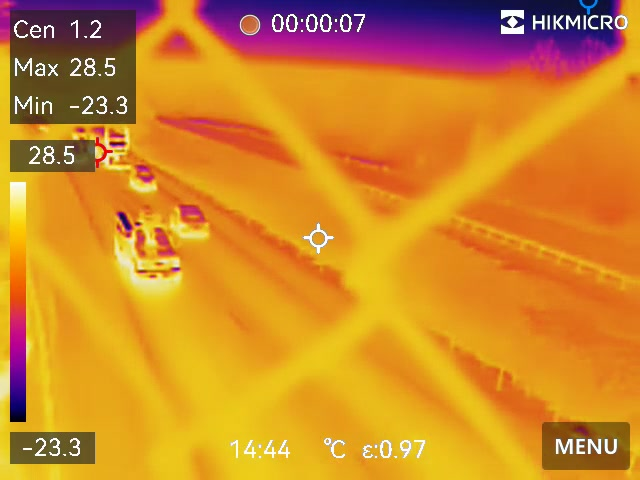largeCar: (172, 200, 215, 244)
lightTruck: (113, 205, 181, 291)
